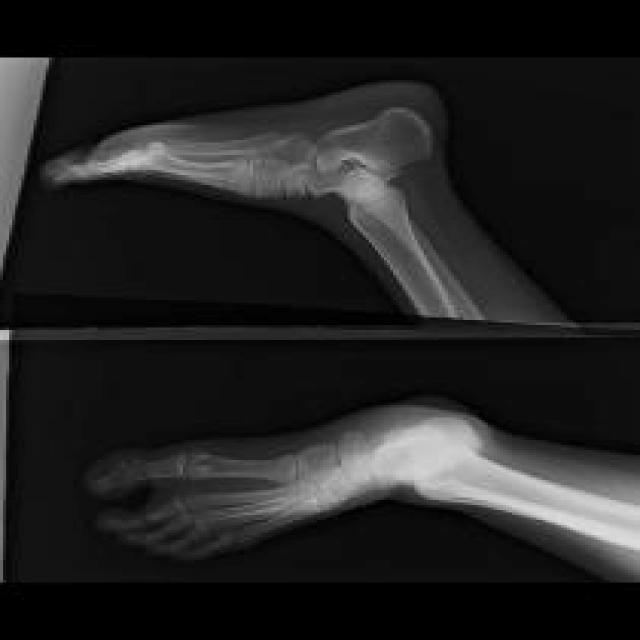normal: (36, 109, 493, 322), (92, 421, 639, 557)
